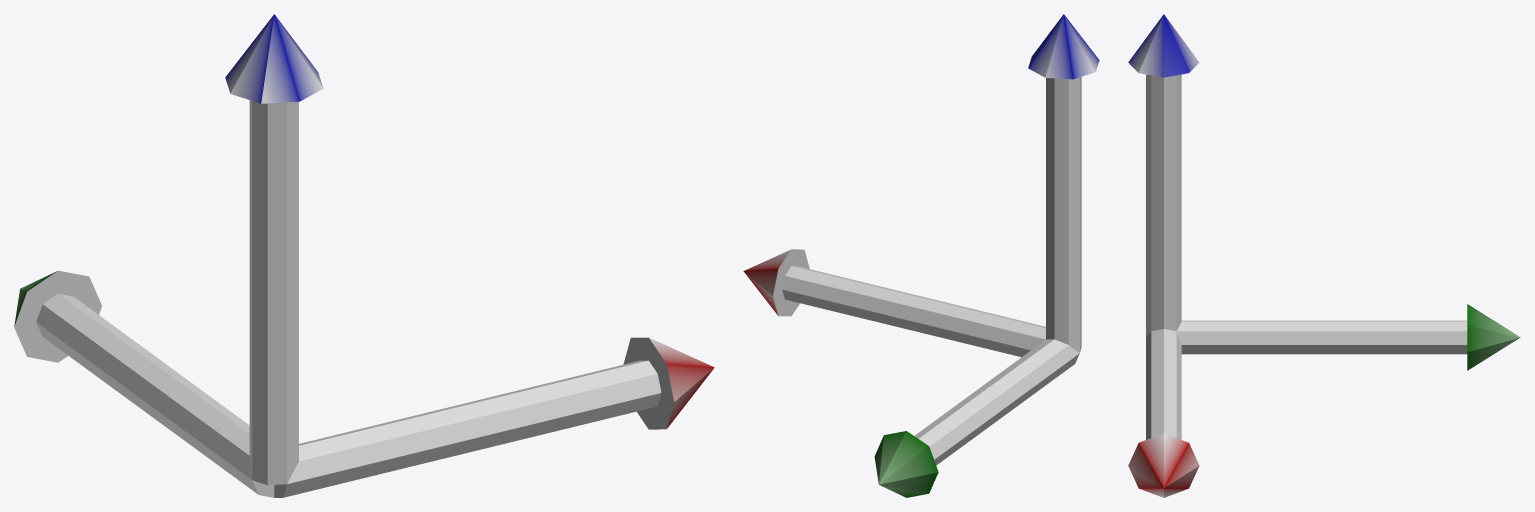
Rendered from basis.dae.
The picture shows the model from 3 angles, left to right: view 1: azimuth 30°, elevation 25°; view 2: azimuth 150°, elevation 25°; view 3: azimuth 270°, elevation 25°; orthographic projection. The views are drawn at different scales.
Parts seen in each view (by area): view 1: Cylinder_002, Cylinder_001, Cylinder, Cone_002, Cone_001, Cone; view 2: Cylinder_002, Cylinder_001, Cylinder, Cone, Cone_002, Cone_001; view 3: Cylinder, Cylinder_002, Cylinder_001, Cone_001, Cone_002, Cone.
Boxes of the visible parts, x1,y1,x2,y2 form: Cylinder_002: [249, 100, 298, 485]; Cylinder_001: [274, 360, 661, 497]; Cylinder: [36, 293, 274, 497]; Cone_002: [225, 14, 323, 103]; Cone_001: [623, 337, 714, 429]; Cone: [14, 270, 101, 362]; Cylinder_002: [1046, 77, 1081, 352]; Cylinder_001: [782, 266, 1045, 357]; Cylinder: [914, 339, 1079, 465]; Cone: [874, 431, 938, 497]; Cone_002: [1028, 14, 1099, 79]; Cone_001: [743, 249, 809, 316]; Cylinder: [1176, 320, 1467, 354]; Cylinder_002: [1146, 74, 1181, 336]; Cylinder_001: [1146, 329, 1181, 439]; Cone_001: [1128, 433, 1199, 497]; Cone_002: [1128, 14, 1199, 77]; Cone: [1467, 304, 1520, 370].
Bounding box in the file's own units: 1.1 × 1.1 × 1.1.
